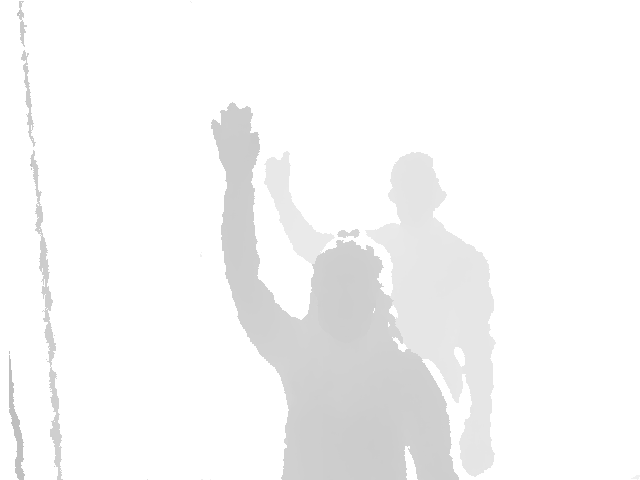hand: (210, 102, 261, 175), (259, 150, 296, 195)
head: (307, 229, 397, 344), (387, 151, 448, 222)
person: (210, 102, 462, 480), (259, 149, 496, 480)
